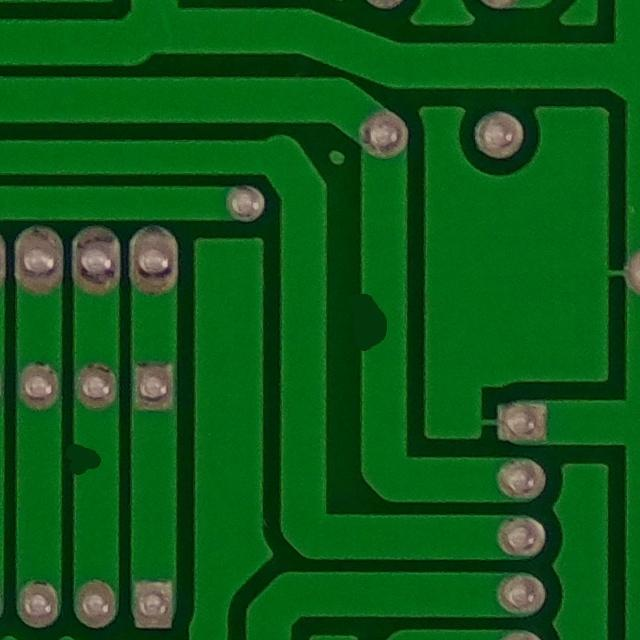mouse_bite: (339, 273, 406, 371), (53, 428, 106, 493)
